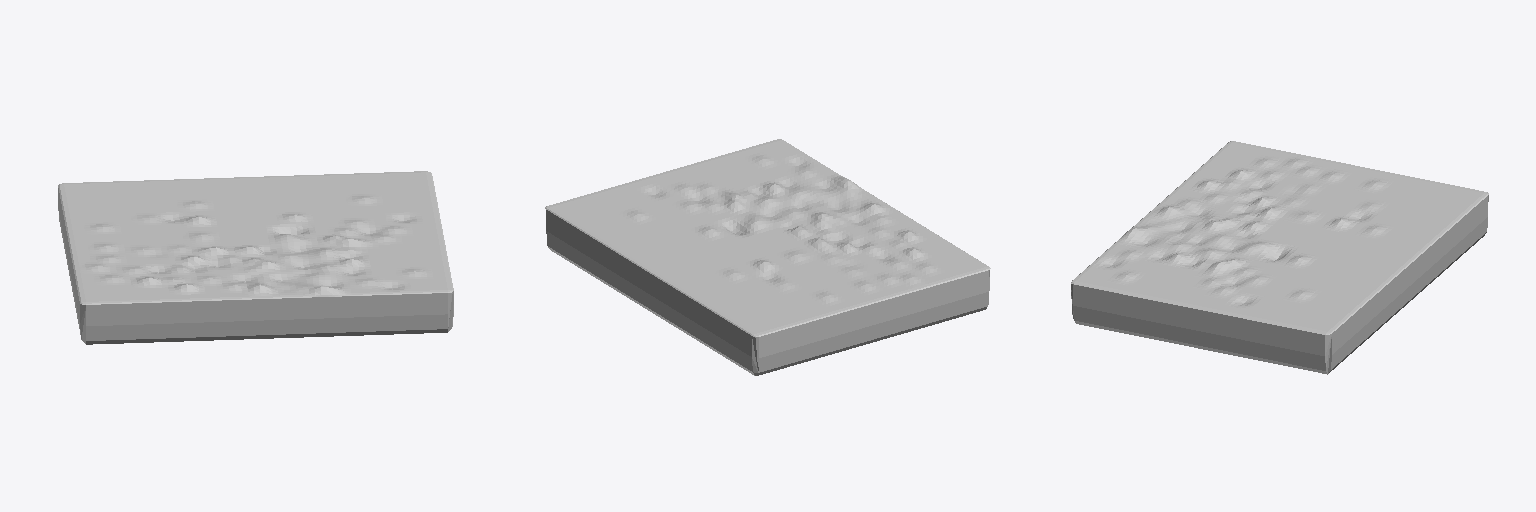
File: sNOW.obj
3 views of the same model, side by side, from view 1: azimuth 30°, elevation 25°; view 2: azimuth 150°, elevation 25°; view 3: azimuth 270°, elevation 25° (orthographic).
Visible parts, largest first — view 1: polySurface112_polySurface112; view 2: polySurface112_polySurface112; view 3: polySurface112_polySurface112.
Boxes of the visible parts, box(x1,y1,x2,y2) form: polySurface112_polySurface112: box(58, 171, 453, 344); polySurface112_polySurface112: box(545, 139, 990, 375); polySurface112_polySurface112: box(1071, 141, 1488, 374).
Bounding box in the file's own units: 68.43 × 7.87 × 62.38.